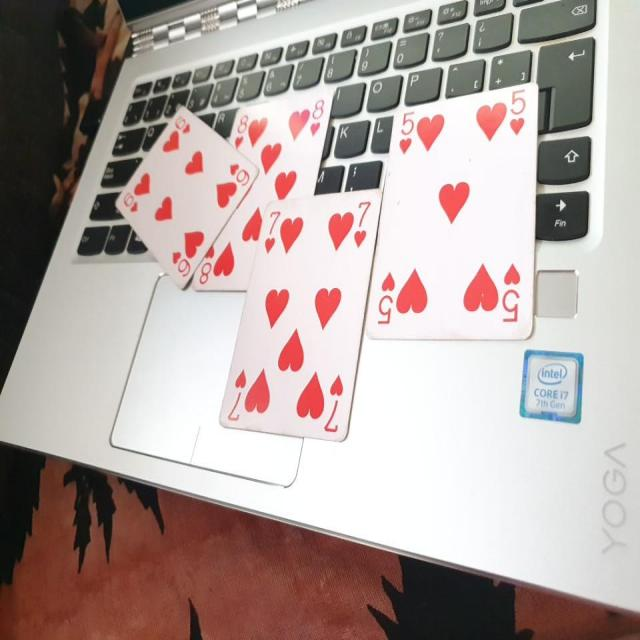5 Hearts: (361, 72, 544, 344)
6 Hearts: (114, 101, 251, 292)
7 Hearts: (217, 186, 387, 452)
8 Hearts: (191, 85, 342, 297)
